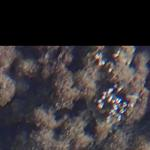dead: (1, 46, 148, 148)
